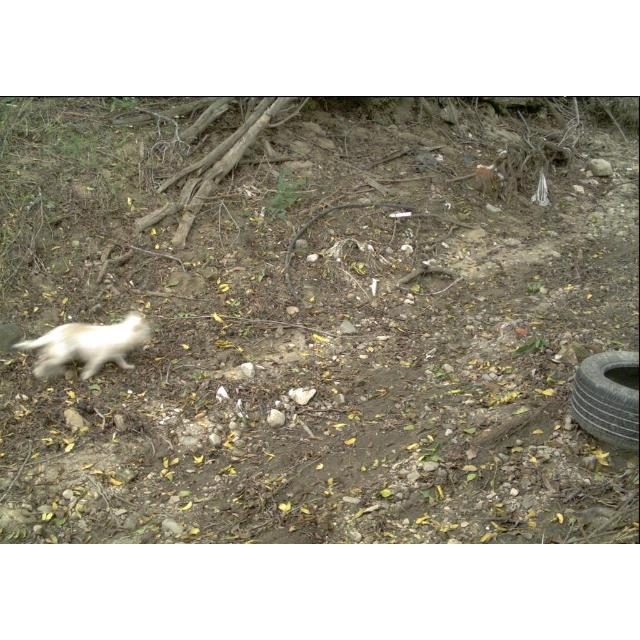animals: (11, 312, 153, 383)
